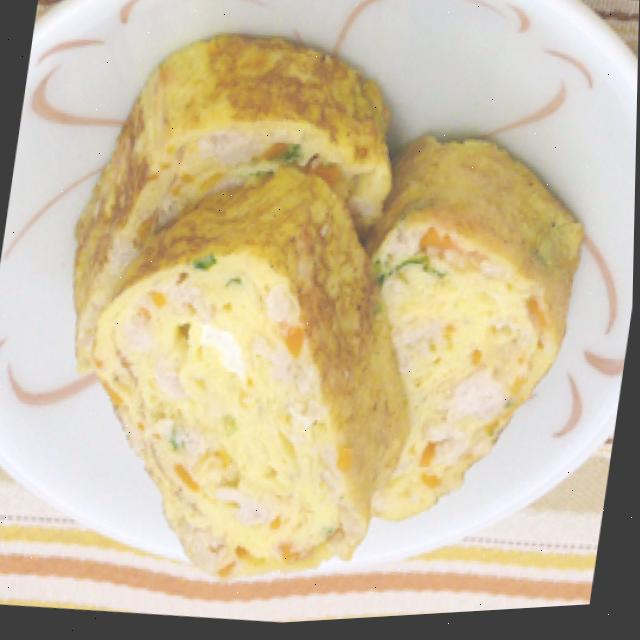鸡蛋料理: (18, 0, 624, 639)
